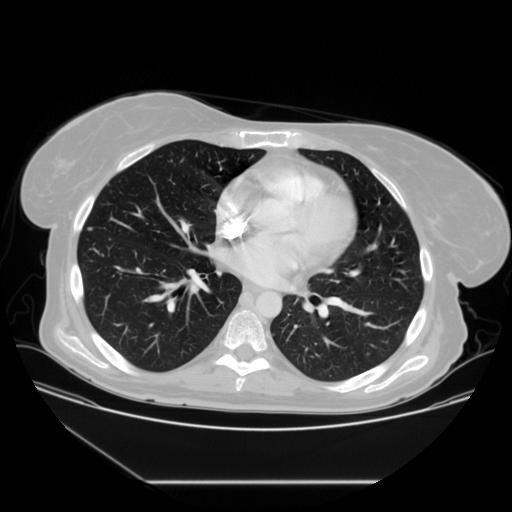nodule: (85, 224, 95, 234)
